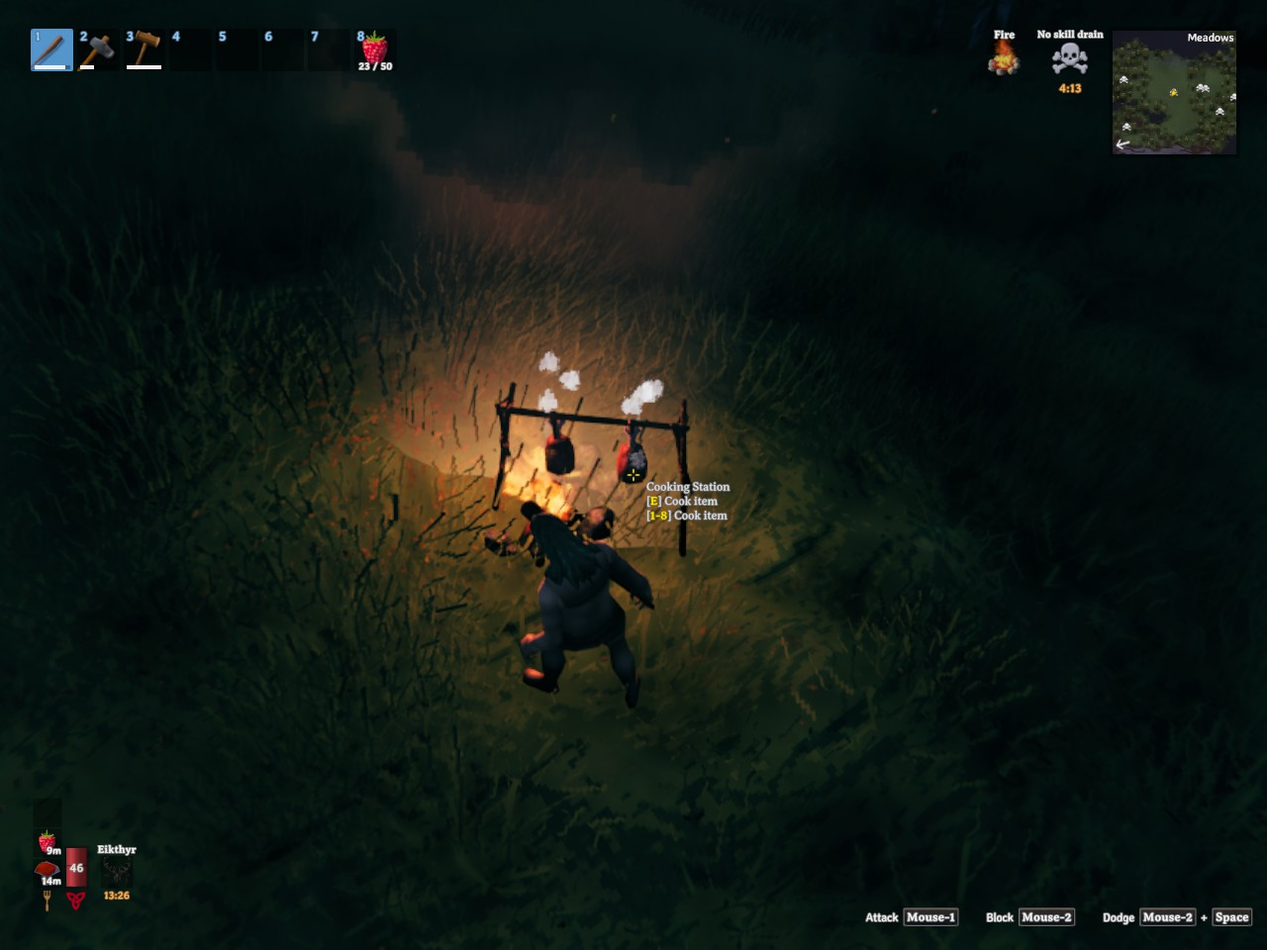Cook Station: (493, 382, 621, 509), (618, 402, 693, 496), (677, 522, 687, 556)
Food Indicator: (35, 830, 61, 888)
Health Bar: (66, 848, 87, 890)
Hotbar: (30, 16, 397, 75)
Status Indicator: (1036, 29, 1105, 75), (986, 29, 1023, 76), (1058, 79, 1082, 92)
